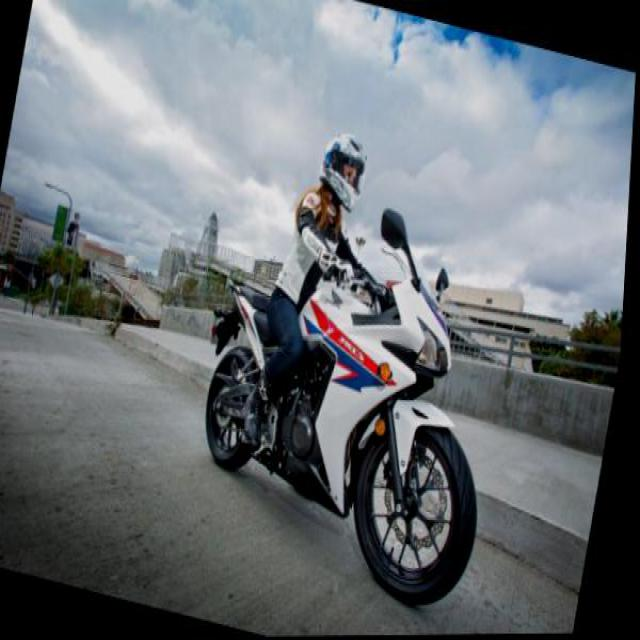CBR500R: (179, 203, 524, 619)
